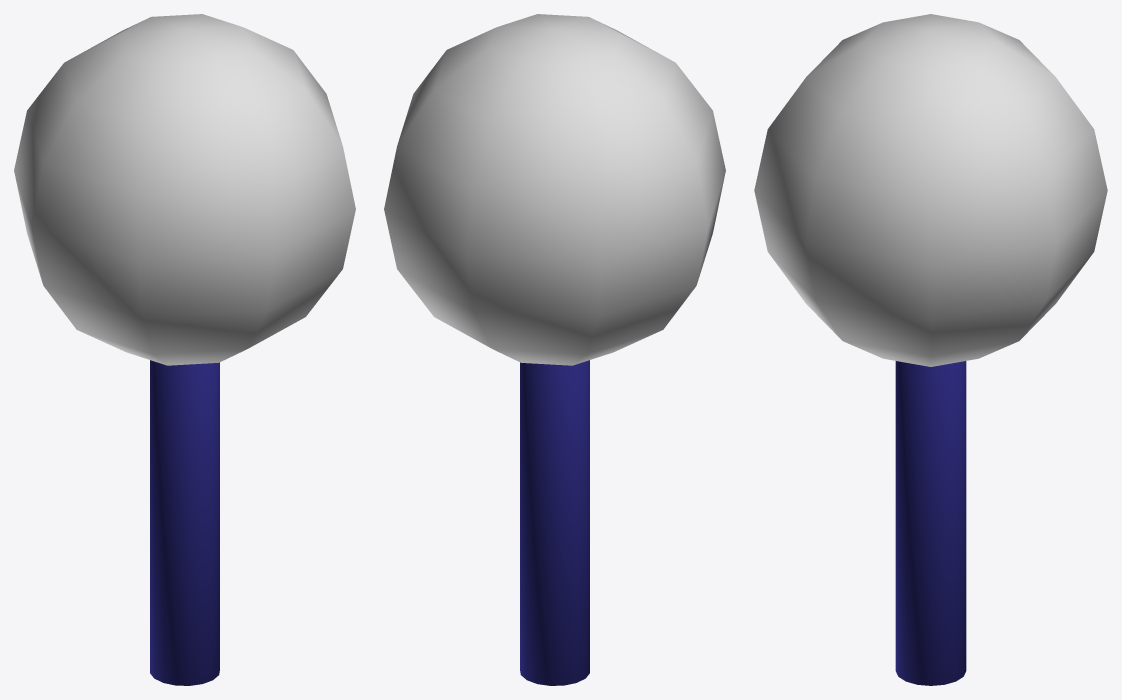
File: flower.glb
The picture shows the model from 3 angles, left to right: view 1: azimuth 30°, elevation 25°; view 2: azimuth 150°, elevation 25°; view 3: azimuth 270°, elevation 25°; orthographic projection.
Parts seen in each view (by area): view 1: Blossom, Stem; view 2: Blossom, Stem; view 3: Blossom, Stem.
Boxes of the visible parts, box(x1,y1,x2,y2) form: Blossom: box(14, 14, 355, 365); Stem: box(150, 360, 219, 685); Blossom: box(384, 14, 725, 365); Stem: box(520, 360, 589, 685); Blossom: box(754, 14, 1107, 366); Stem: box(895, 361, 966, 685).
Size of the model in its own units: 1 by 2 by 1.
